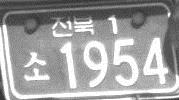1: (58, 41, 79, 89), (106, 12, 119, 34)
4: (141, 36, 169, 85)
5: (112, 38, 139, 86)
9: (82, 40, 108, 88)
소: (22, 50, 51, 82)
전북_O: (48, 13, 95, 38)
